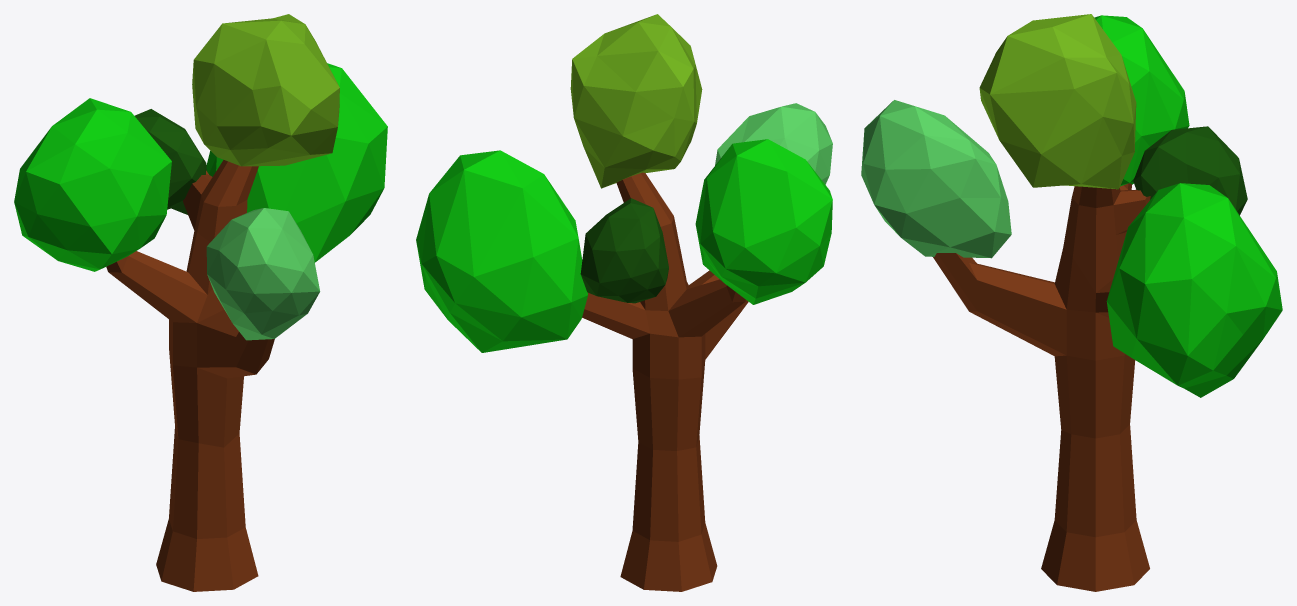
The model's file is CrookedTree.fbx.
The picture shows the model from 3 angles, left to right: view 1: azimuth 30°, elevation 25°; view 2: azimuth 150°, elevation 25°; view 3: azimuth 270°, elevation 25°; orthographic projection. The views are drawn at different scales.
Visible parts, largest first — view 1: CrookedTreeLeaves, CrookedTreeTrunk; view 2: CrookedTreeLeaves, CrookedTreeTrunk; view 3: CrookedTreeLeaves, CrookedTreeTrunk.
Part boxes in pixels (x1,y1,x2,y2): CrookedTreeLeaves: (14,14,387,340); CrookedTreeTrunk: (106,160,274,591); CrookedTreeLeaves: (416,14,832,352); CrookedTreeTrunk: (582,172,748,591); CrookedTreeLeaves: (861,14,1282,397); CrookedTreeTrunk: (933,183,1150,591).
Size of the model in its own units: 582 by 780 by 524.
